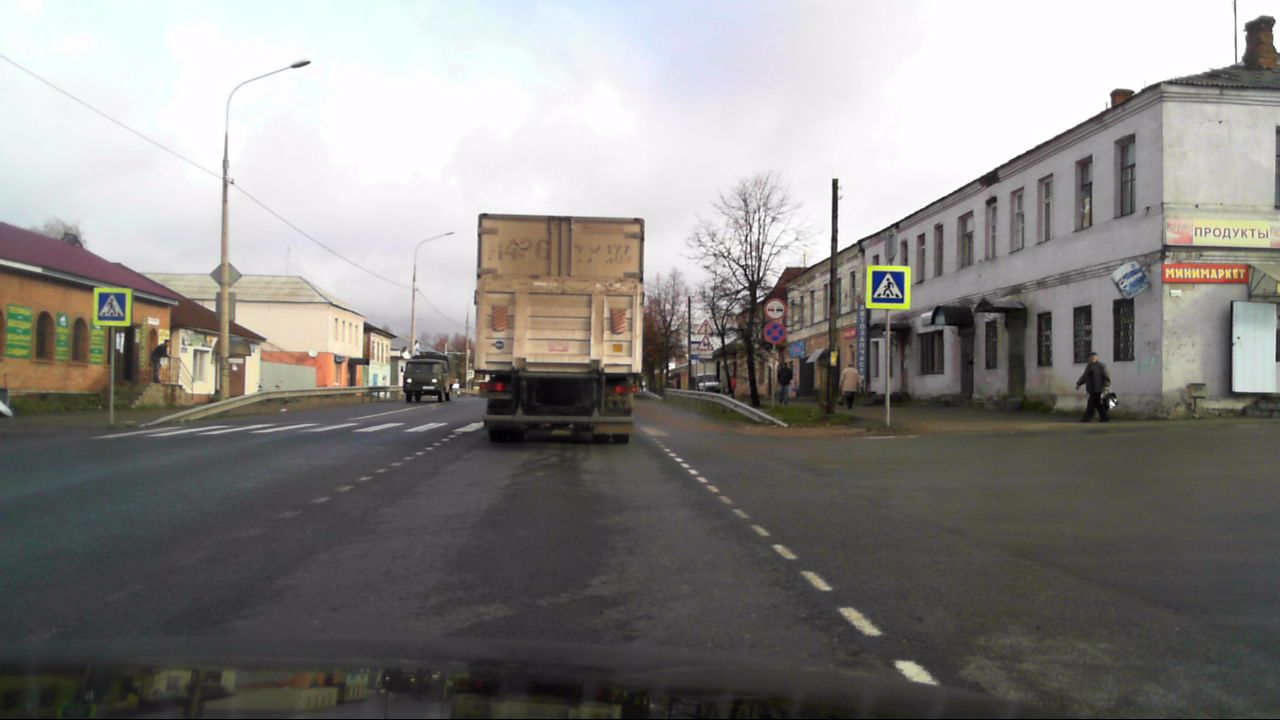No Parking: (763, 320, 786, 342)
